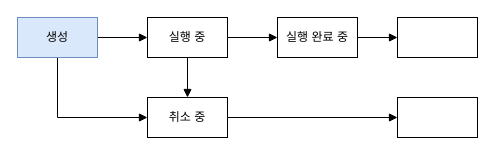
Some shapes in this 495 by 155 pixel diagram are drawn without their labels. Each missing label, with the centre of its shape:
실행 완료: the point at 437,37
취소 완료: the point at 437,117
